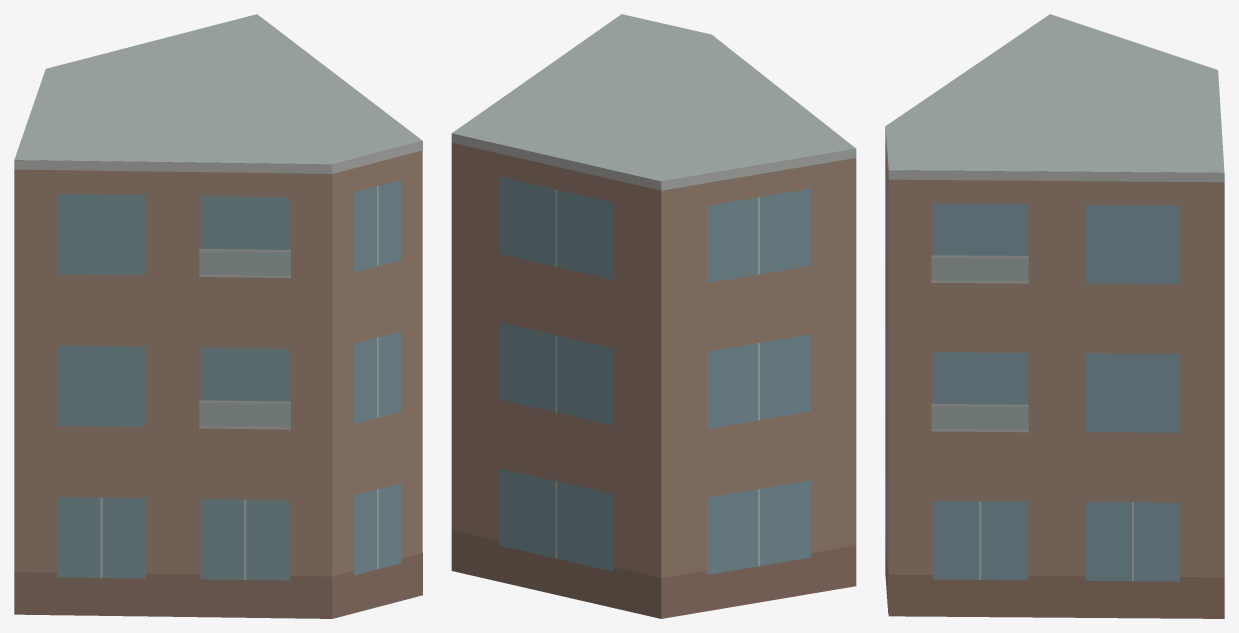
The model's file is survey-upis-32967798.glb.
The picture shows the model from 3 angles, left to right: view 1: azimuth 30°, elevation 25°; view 2: azimuth 150°, elevation 25°; view 3: azimuth 270°, elevation 25°; orthographic projection. The views are drawn at different scales.
Visible parts, largest first — view 1: survey-upis-32967798.tmp; view 2: survey-upis-32967798.tmp; view 3: survey-upis-32967798.tmp.
Boxes of the visible parts, x1,y1,x2,y2 form: survey-upis-32967798.tmp: [14, 14, 422, 618]; survey-upis-32967798.tmp: [451, 14, 856, 618]; survey-upis-32967798.tmp: [885, 14, 1224, 618].
Size of the model in its own units: 8.79 by 11.5 by 7.94.
